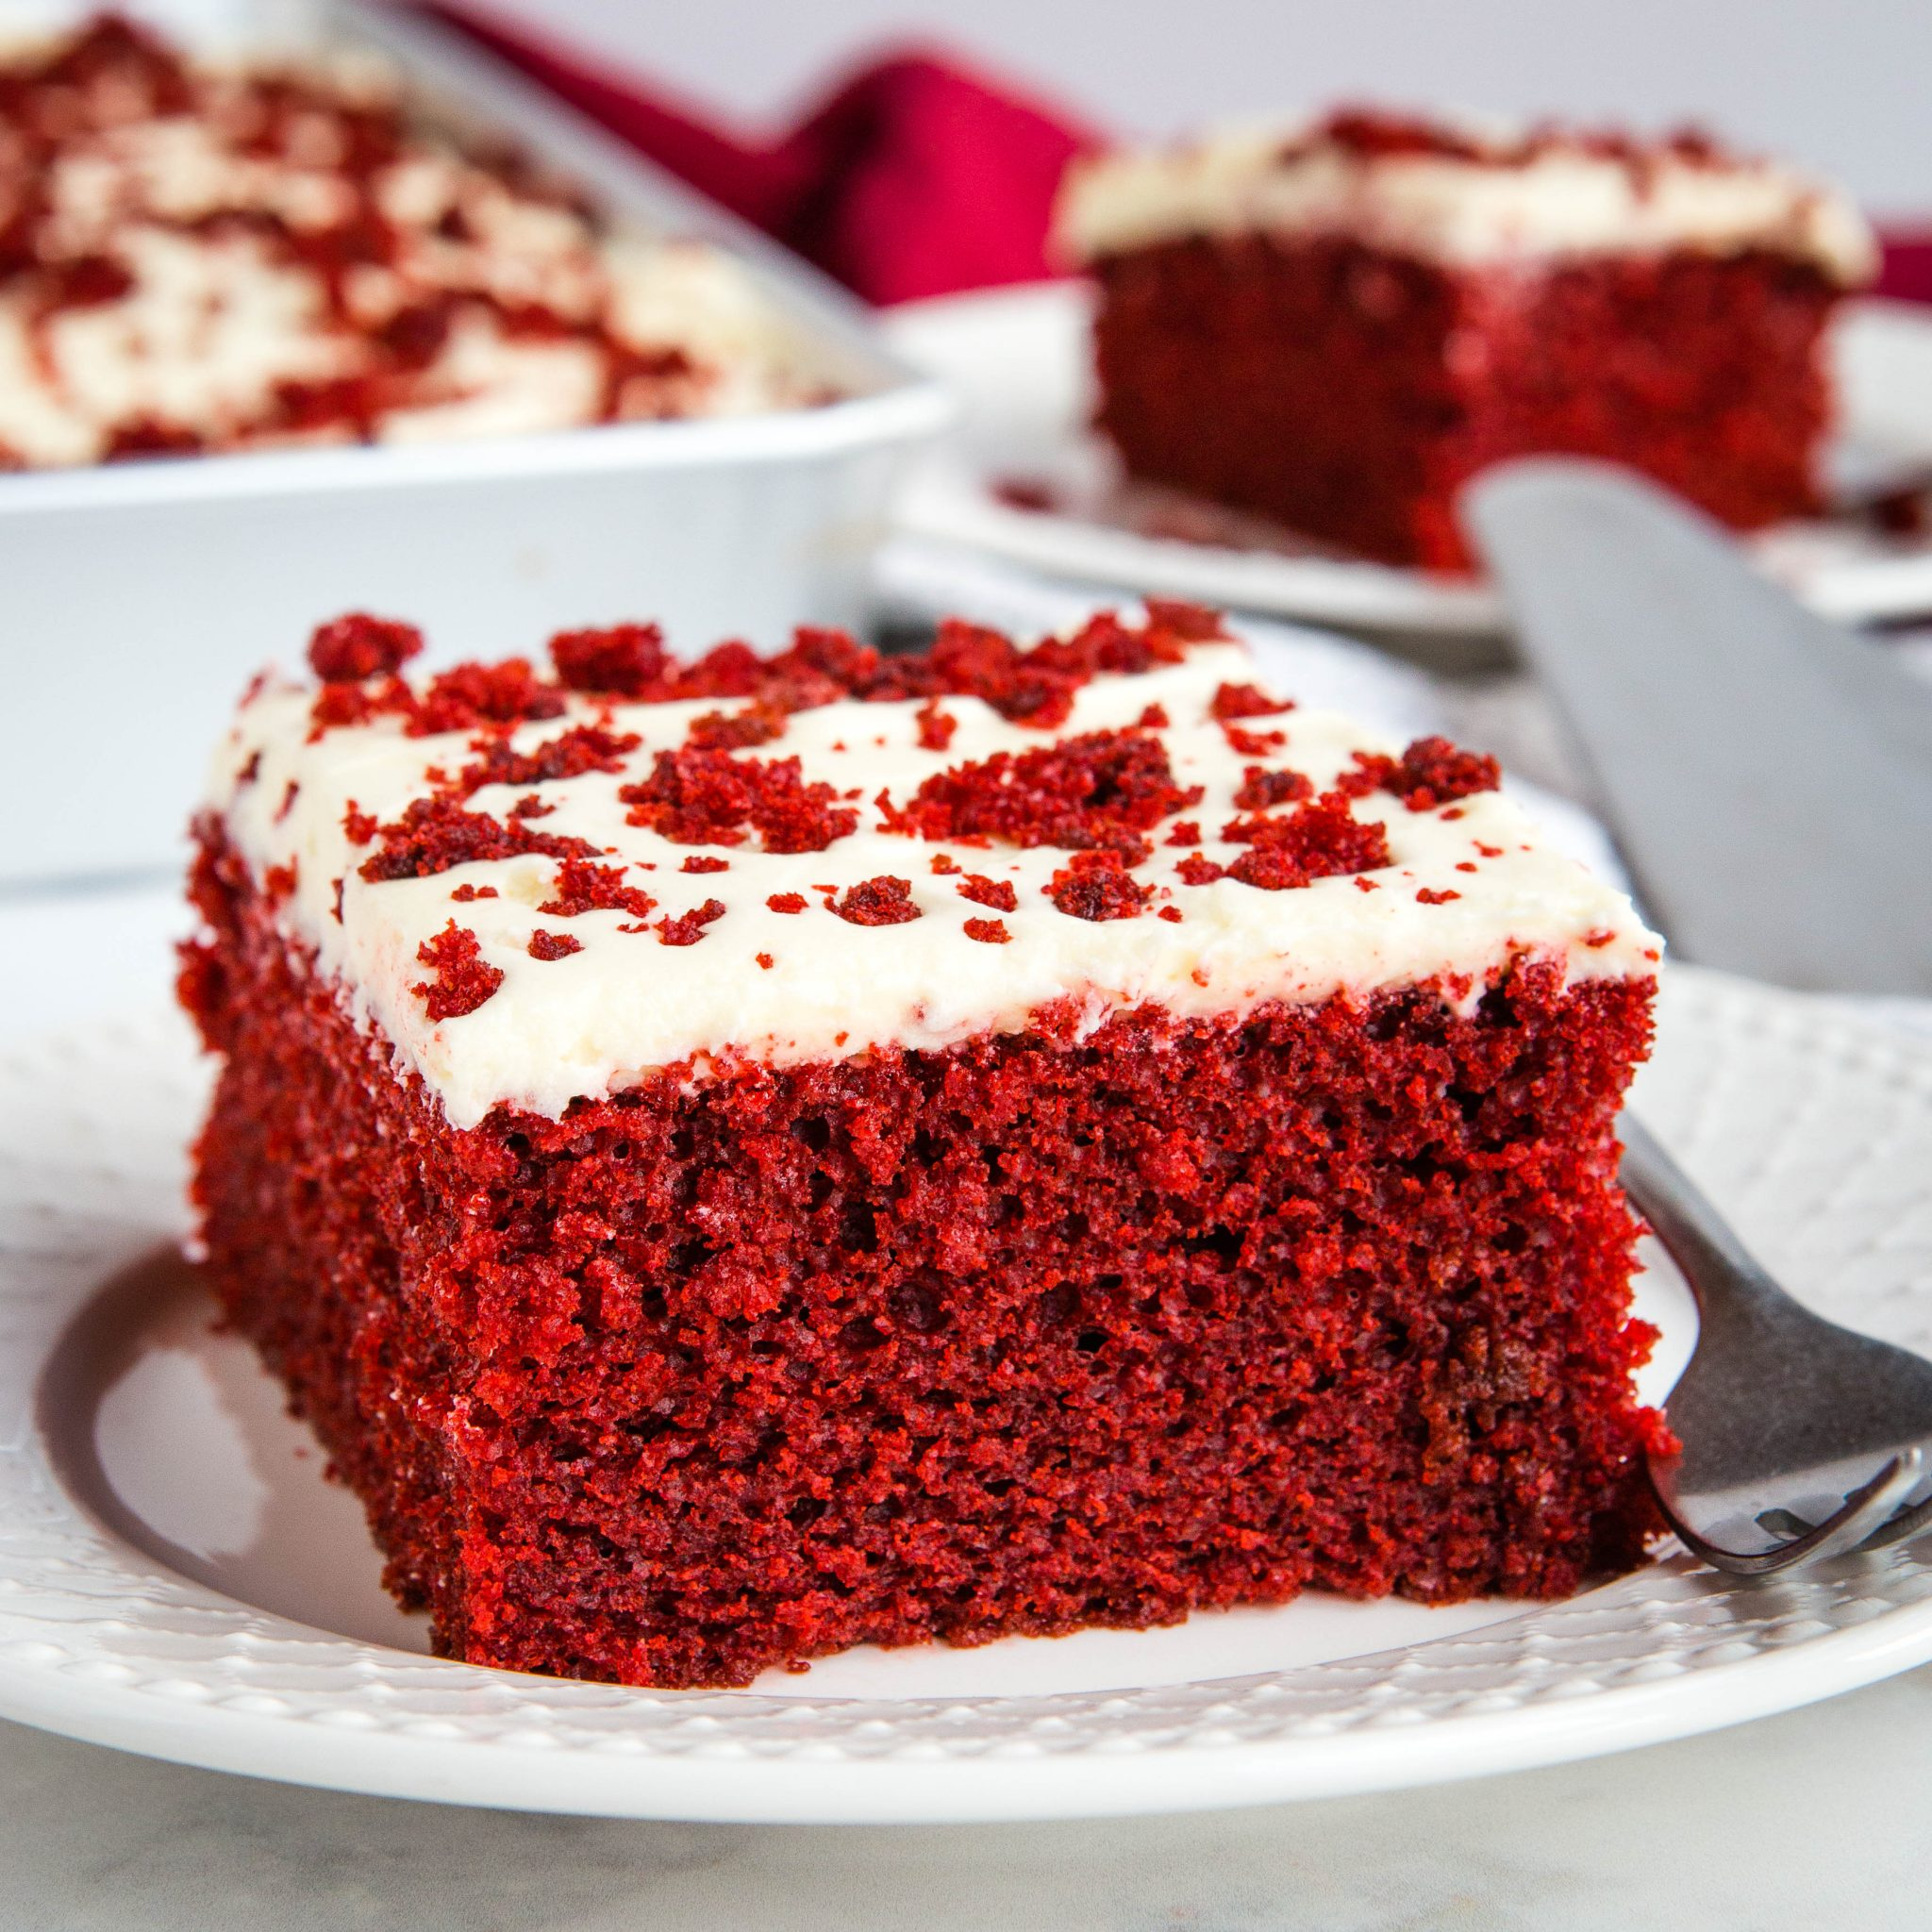red_velvet_cake: (152, 582, 1780, 1750)
